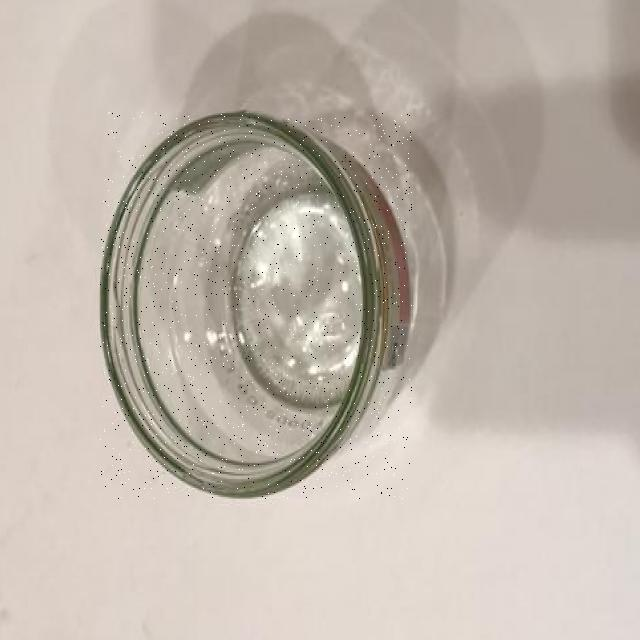glass: (101, 112, 412, 498)
